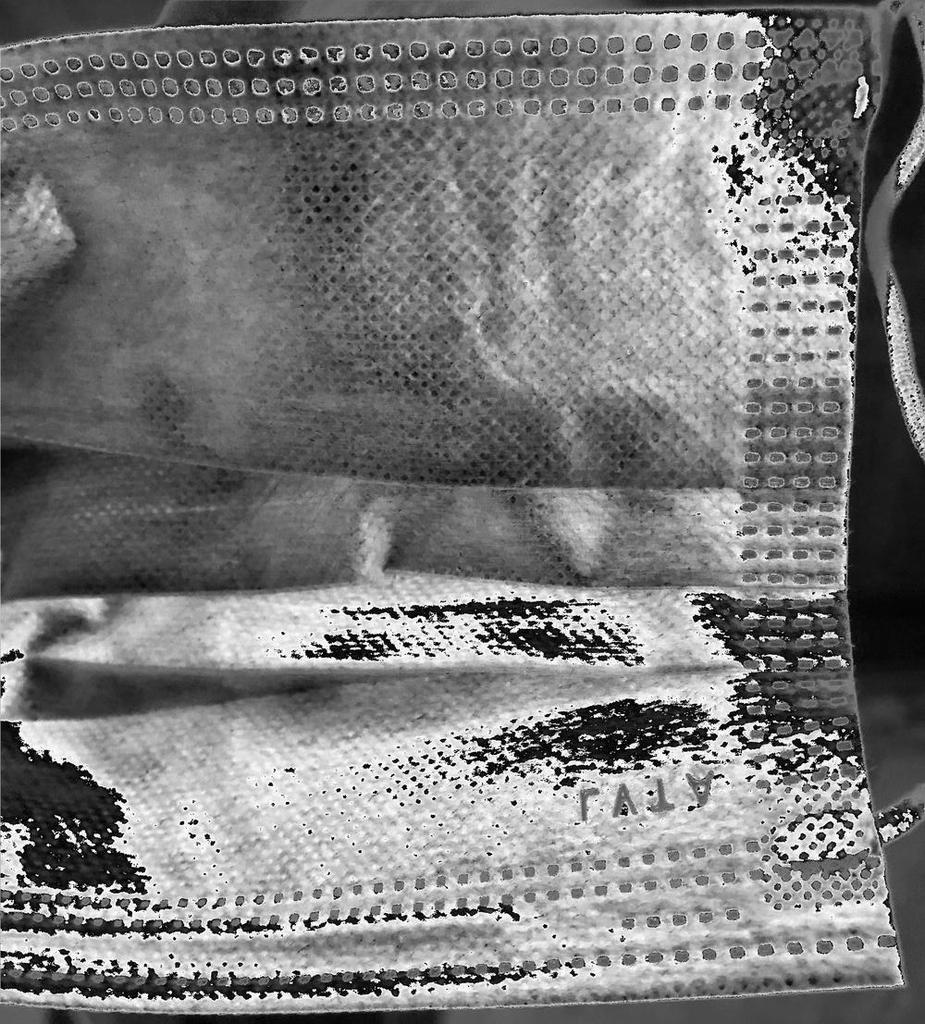High GSM: (7, 5, 917, 1019)
